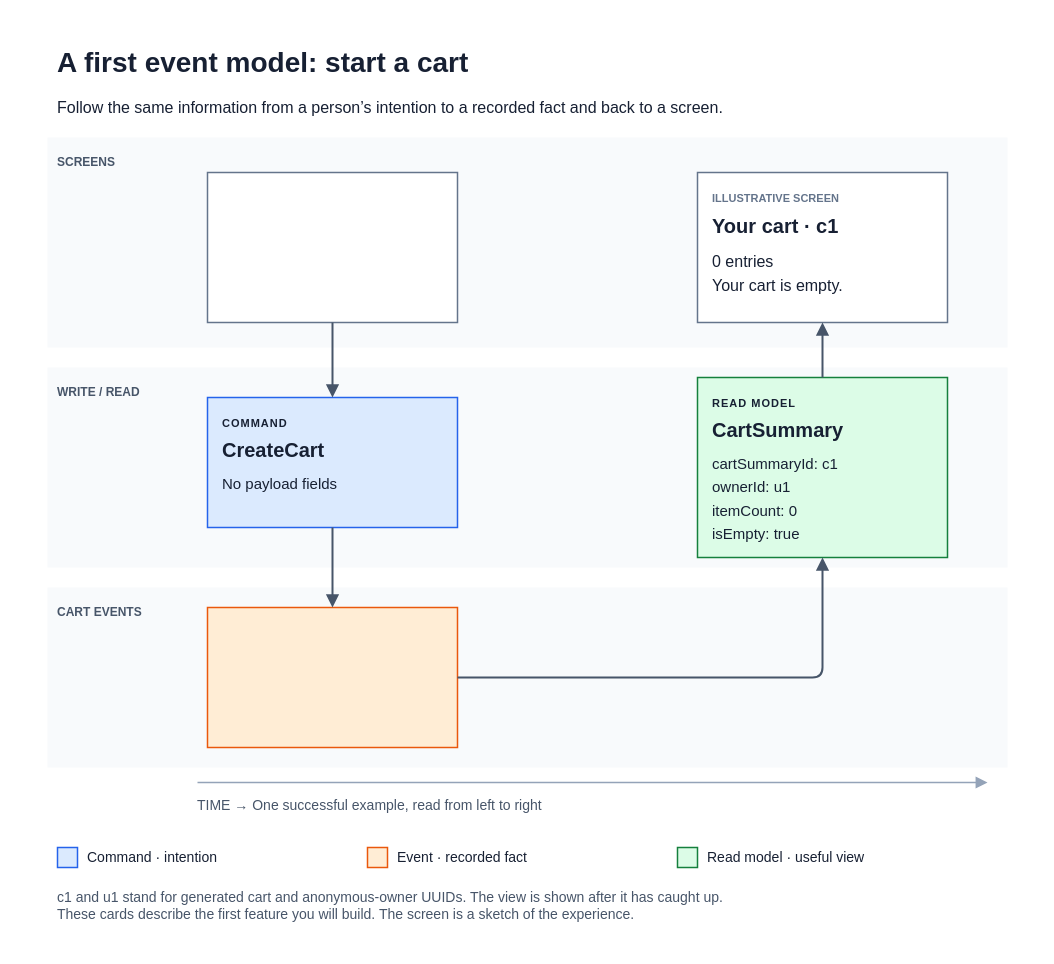
The diagram is 1054 pixels wide and 964 high, and some of its shapes have lost their labels. The centre of each missing label's shape, as x and y in pixels:
"EVENT CartCreated entityId: c1 ownerId: u1" belongs at (332,677).
"ILLUSTRATIVE SCREEN Start a cart Create cart" belongs at (332,247).
